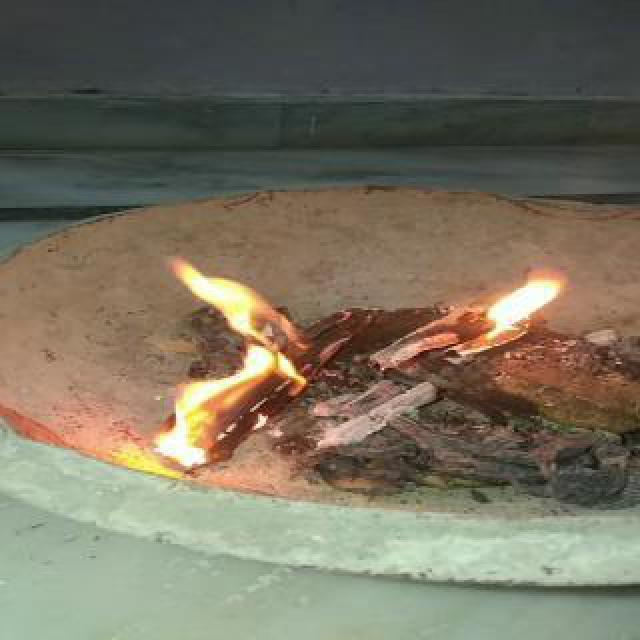Fire: (154, 256, 310, 466), (462, 248, 560, 348)
